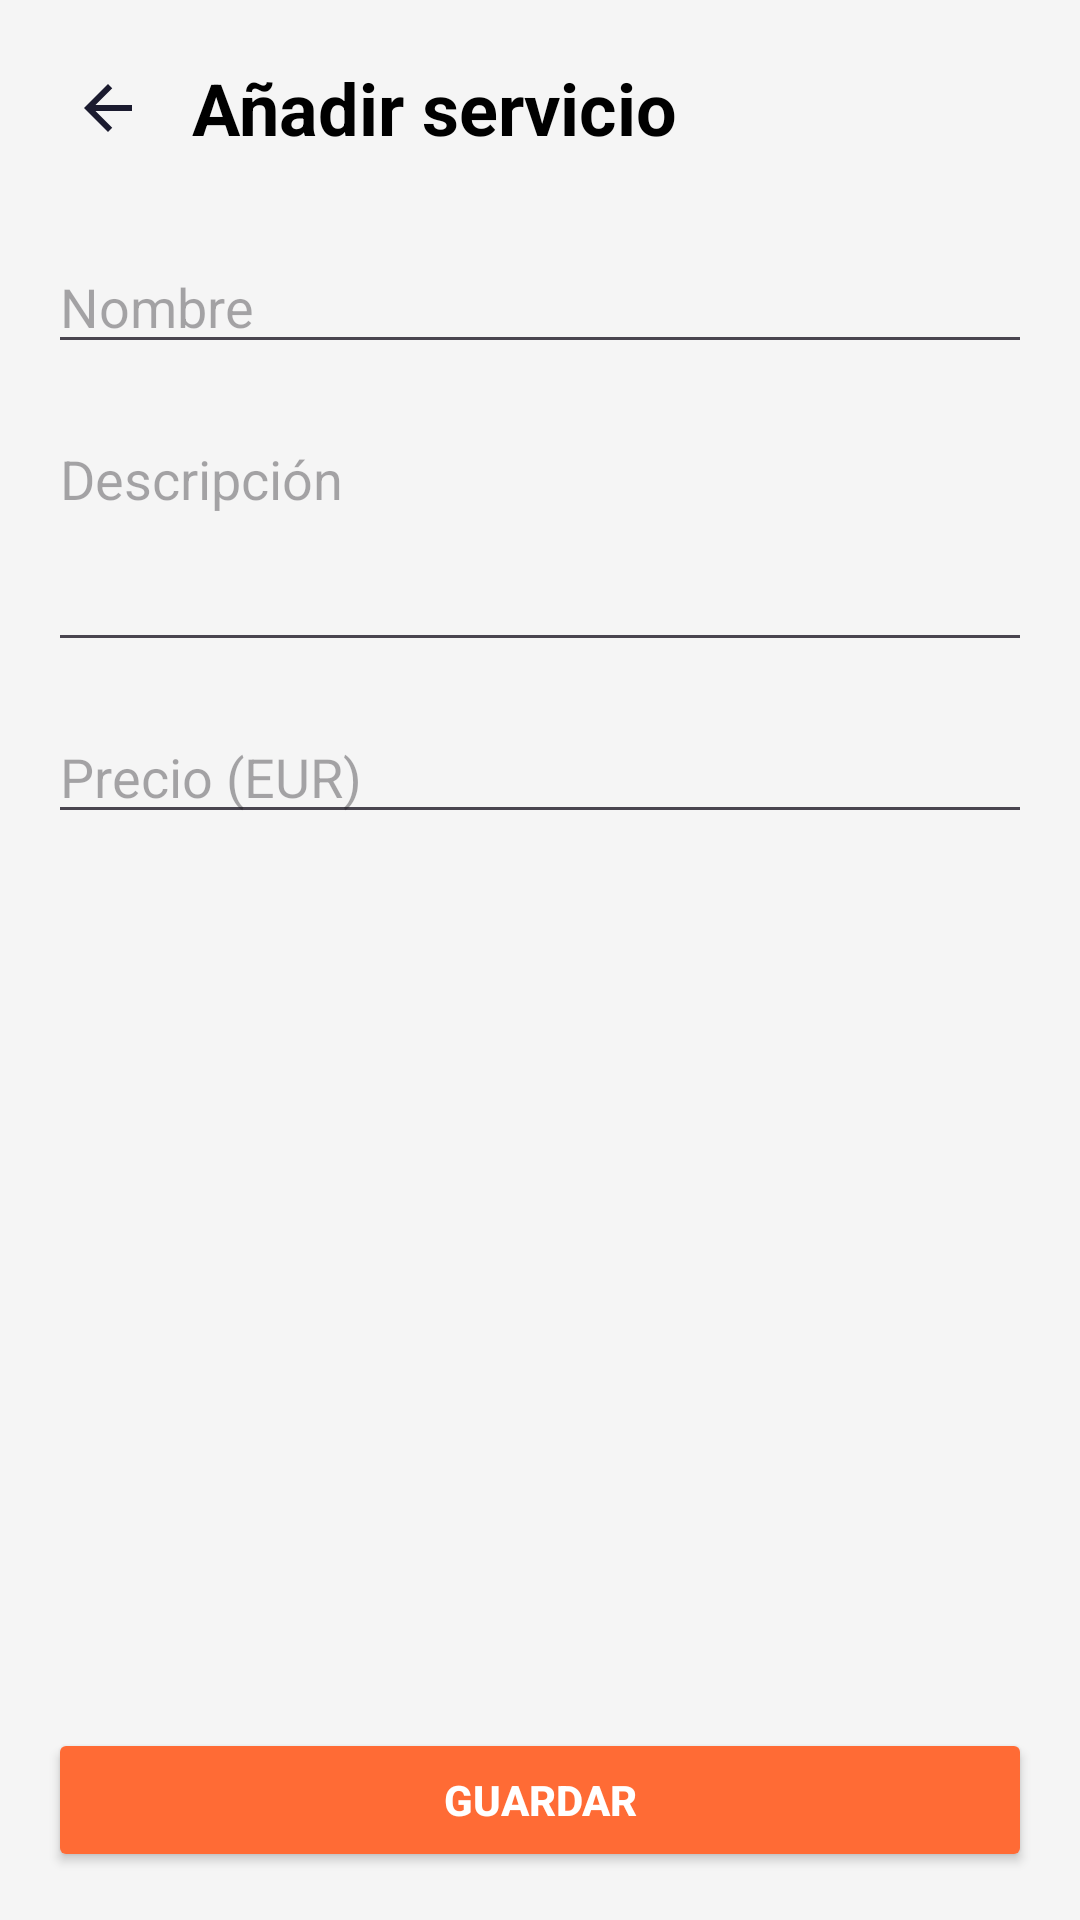

Where icons sit on this 1080*1920 app screen, as (x1, y1, x2, y2):
arrow back: (84, 84, 132, 132)
